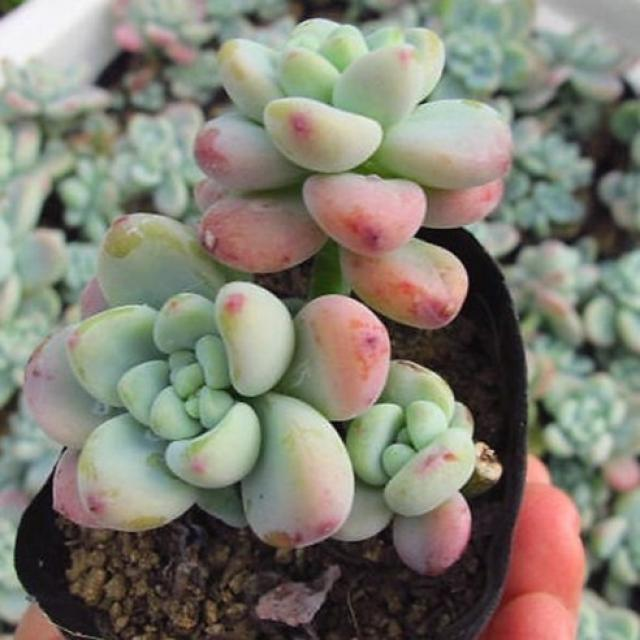LumiRose: (24, 214, 390, 547), (195, 19, 512, 317), (332, 360, 502, 576)
